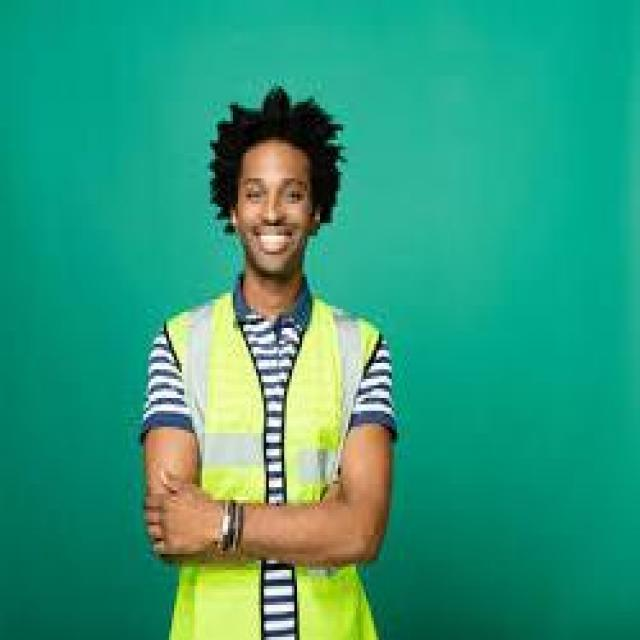reflective_jacket: (153, 286, 389, 636)
